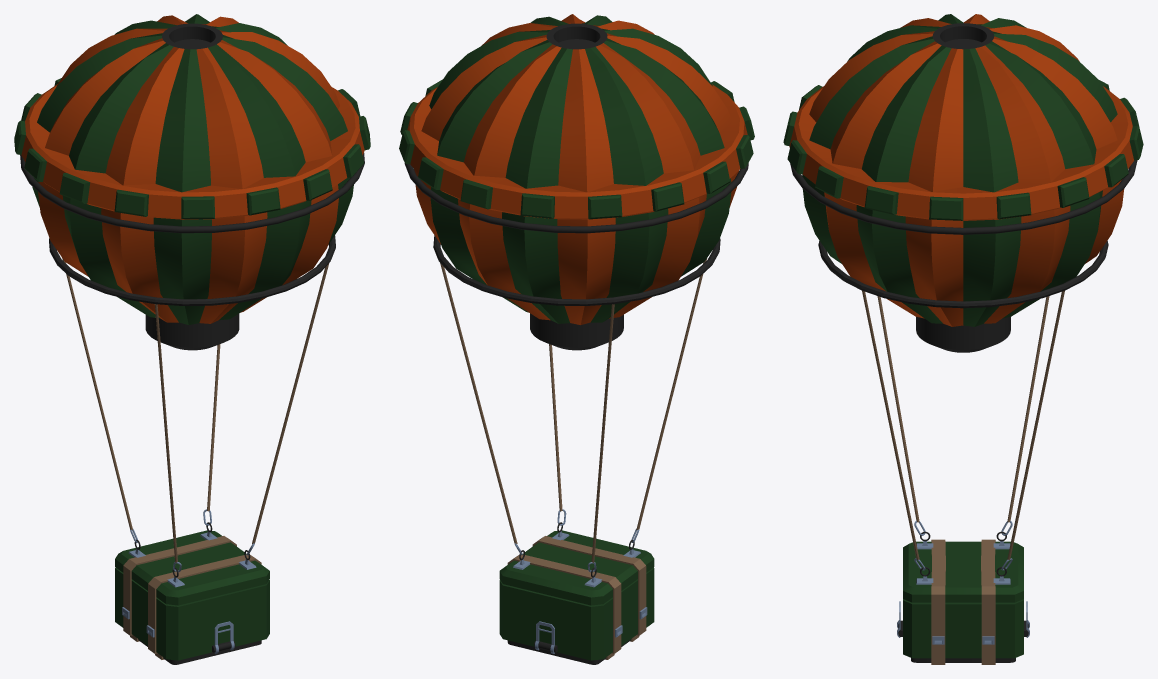
File: Supply_Crate.baloon.001.fbx
3 renders of one model, left to right at view 1: azimuth 30°, elevation 25°; view 2: azimuth 150°, elevation 25°; view 3: azimuth 270°, elevation 25°, orthographic.
Visible parts, largest first — view 1: Sphere, Sphere.005, Cube, Sphere.003, Cube.001, Sphere.001, Sphere.002, Sphere.004, Torus.001; view 2: Sphere, Sphere.005, Cube, Sphere.003, Cube.001, Sphere.001, Sphere.002, Sphere.004, Torus.001; view 3: Sphere, Sphere.005, Cube, Cube.001, Sphere.003, Sphere.001, Sphere.002, Sphere.004, Torus.001.
Part boxes in pixels (<box>): Sphere: <box>32,14,353,324</box>; Sphere.005: <box>14,78,370,219</box>; Cube: <box>115,530,269,664</box>; Sphere.003: <box>62,258,329,562</box>; Cube.001: <box>122,536,261,659</box>; Sphere.001: <box>20,153,364,233</box>; Sphere.002: <box>49,235,335,305</box>; Sphere.004: <box>145,313,239,350</box>; Torus.001: <box>128,509,256,587</box>; Sphere: <box>414,14,738,325</box>; Sphere.005: <box>399,79,754,219</box>; Cube: <box>499,530,654,664</box>; Sphere.003: <box>440,258,707,562</box>; Cube.001: <box>507,536,647,659</box>; Sphere.001: <box>404,163,748,233</box>; Sphere.002: <box>433,235,720,305</box>; Sphere.004: <box>530,313,623,350</box>; Torus.001: <box>513,509,640,587</box>; Sphere: <box>802,14,1124,326</box>; Sphere.005: <box>783,80,1143,220</box>; Cube: <box>903,541,1023,662</box>; Cube.001: <box>931,539,995,664</box>; Sphere.003: <box>862,290,1064,559</box>; Sphere.001: <box>790,160,1137,234</box>; Sphere.002: <box>818,240,1108,308</box>; Sphere.004: <box>916,317,1010,352</box>; Torus.001: <box>914,521,1012,584</box>.
Bounding box in the file's own units: 595 × 1105 × 595.
